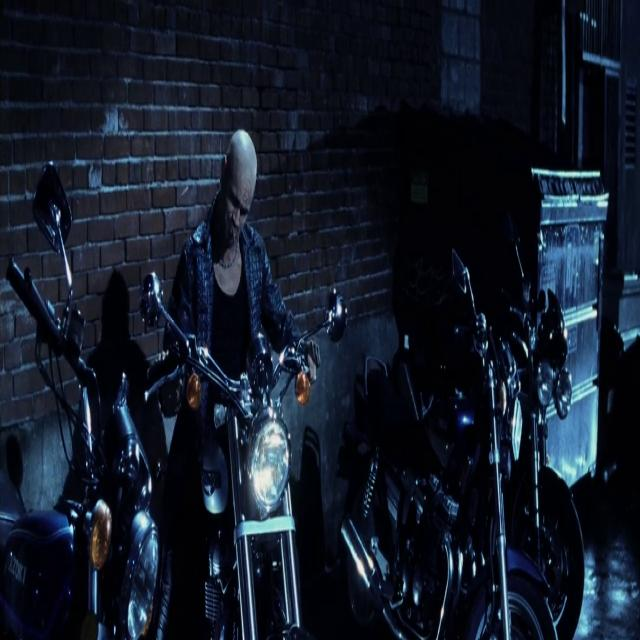Motorbike: (345, 225, 569, 640), (0, 134, 173, 640), (140, 275, 367, 635), (480, 158, 607, 609)
People: (174, 107, 332, 452)
